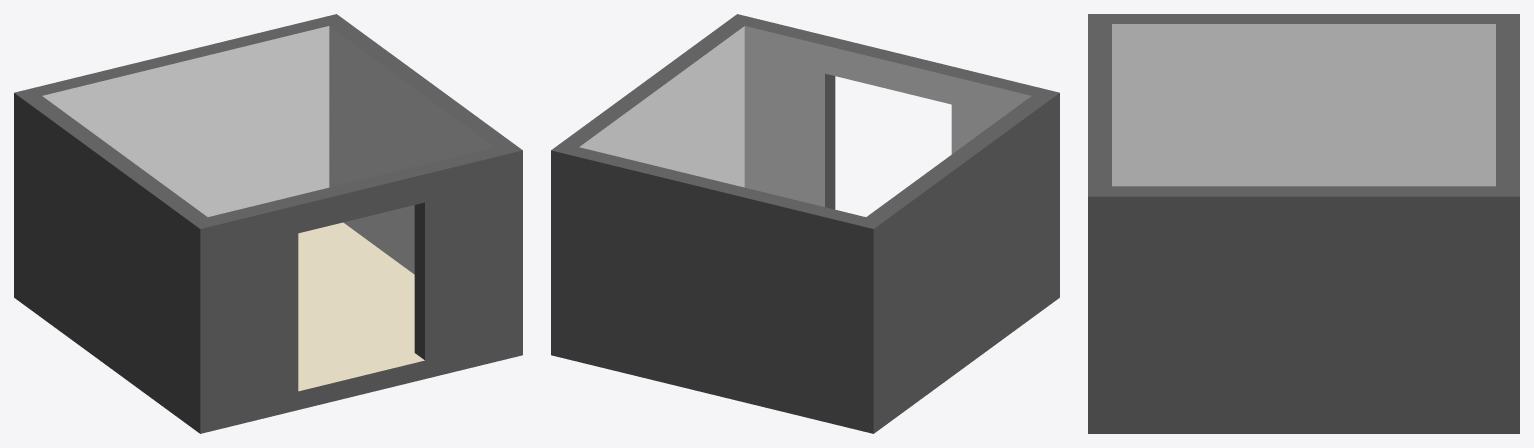
Rendered from I_Elevator.fbx.
3 renders of one model, left to right at view 1: azimuth 30°, elevation 25°; view 2: azimuth 150°, elevation 25°; view 3: azimuth 270°, elevation 25°, orthographic. The views are drawn at different scales.
Parts seen in each view (by area): view 1: I_Elevator; view 2: I_Elevator; view 3: I_Elevator.
Part boxes in pixels (bbox=[...]): I_Elevator: bbox=[14, 14, 522, 433]; I_Elevator: bbox=[551, 14, 1059, 433]; I_Elevator: bbox=[1088, 14, 1519, 433].
Size of the model in its own units: 363 by 220 by 363.
